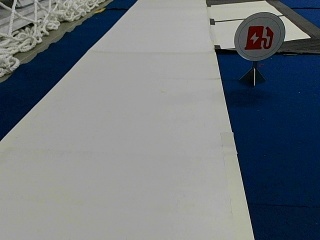battery: (234, 10, 284, 60)
